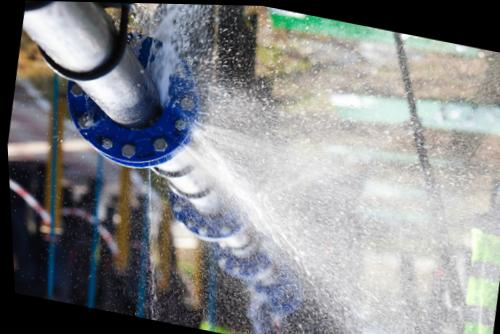leak: (146, 4, 500, 334), (17, 92, 108, 192)
